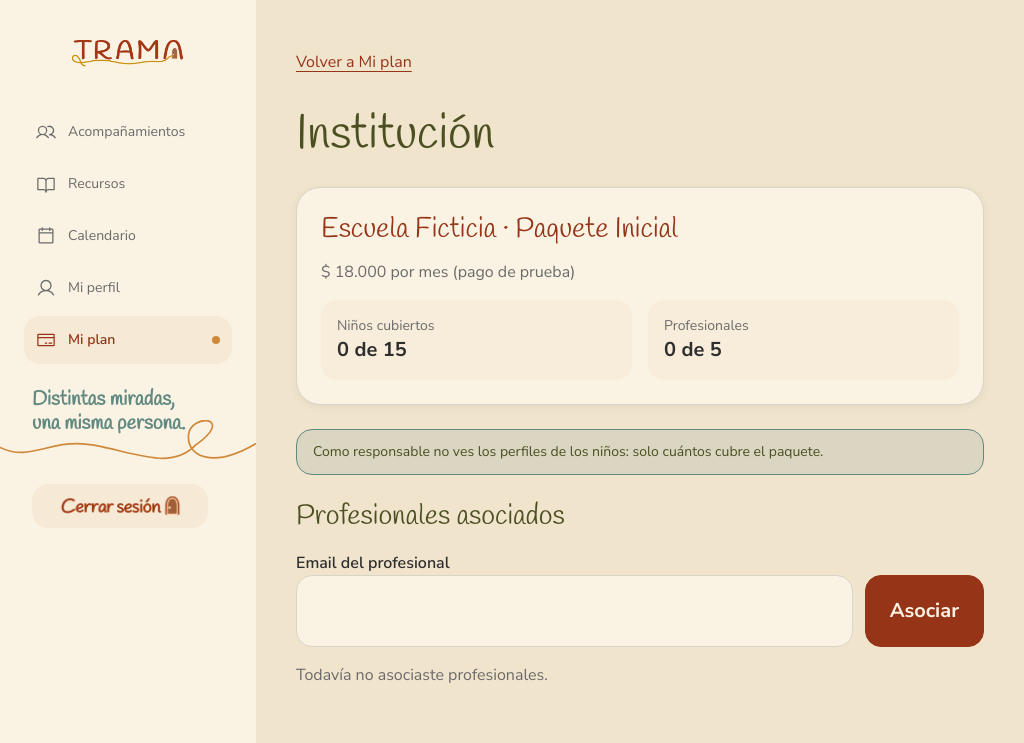
Scenario: 9.2: paquete institucional › asocia un profesional por email y actualiza los cupos
Type " Docente@Example.com " into the field labelled "Email del profesional" at (574, 611), box [296,575,853,647]
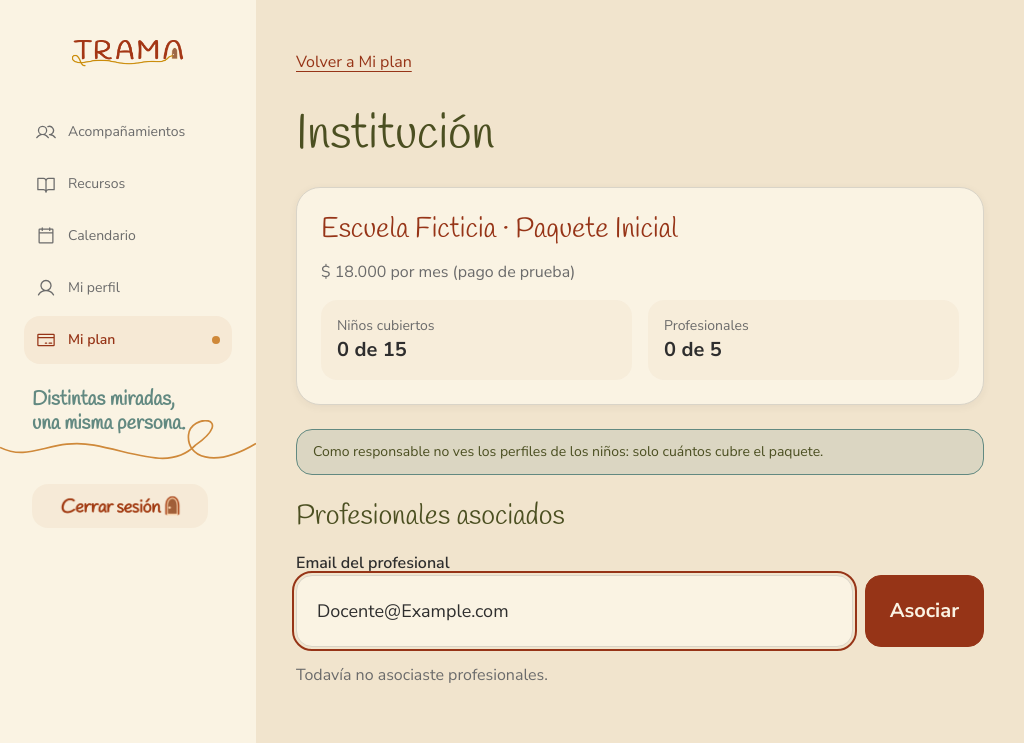
Click the button "Asociar" at (924, 611), box [865,575,984,647]
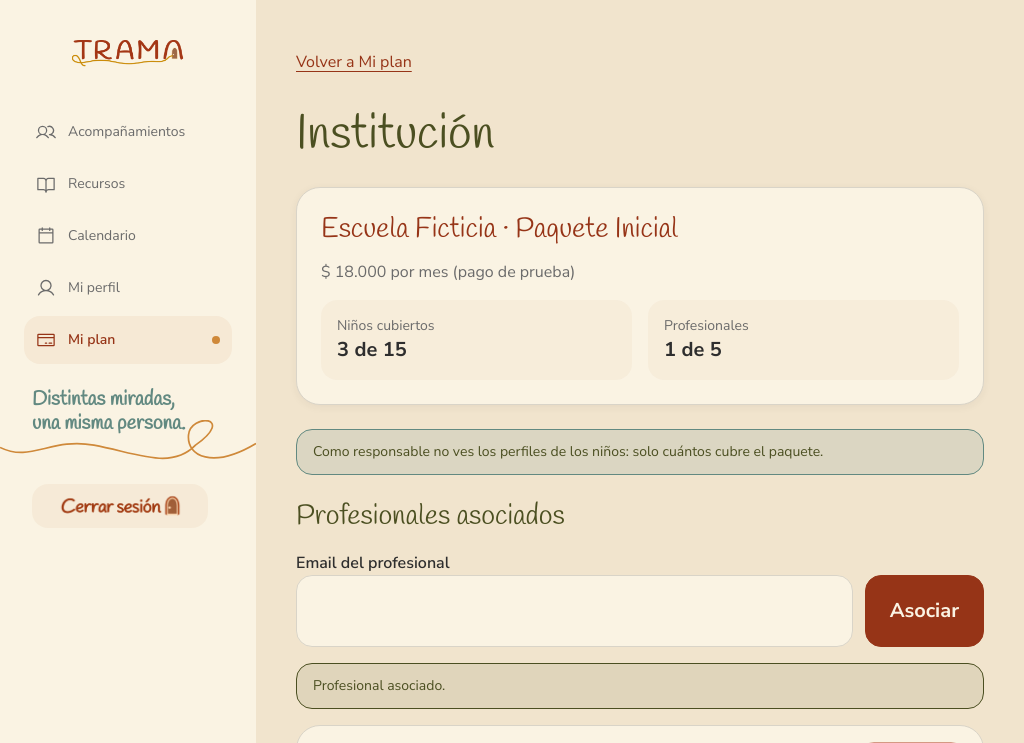
expect the text "3 de 15" is shown: met, box [337,336,407,363]
expect the text "1 de 5" is shown: met, box [664,336,722,363]
